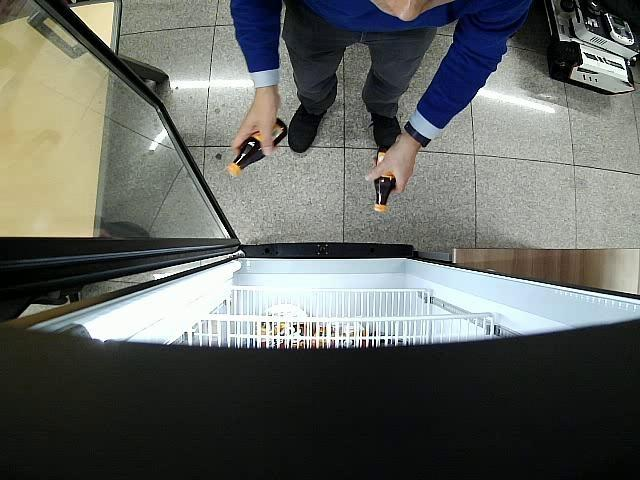17_vita500: (226, 117, 288, 178), (374, 146, 396, 212)
